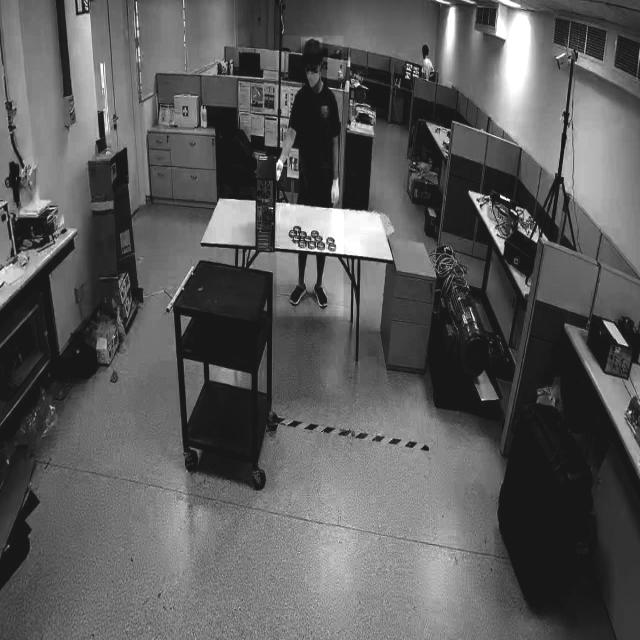face_mask: (302, 53, 328, 98)
hand_glove: (329, 171, 341, 206), (274, 156, 286, 187)
head_nohelmet: (301, 37, 323, 56), (422, 42, 429, 51)
person: (276, 35, 344, 318)
shoes: (312, 279, 331, 311), (288, 281, 308, 307)
